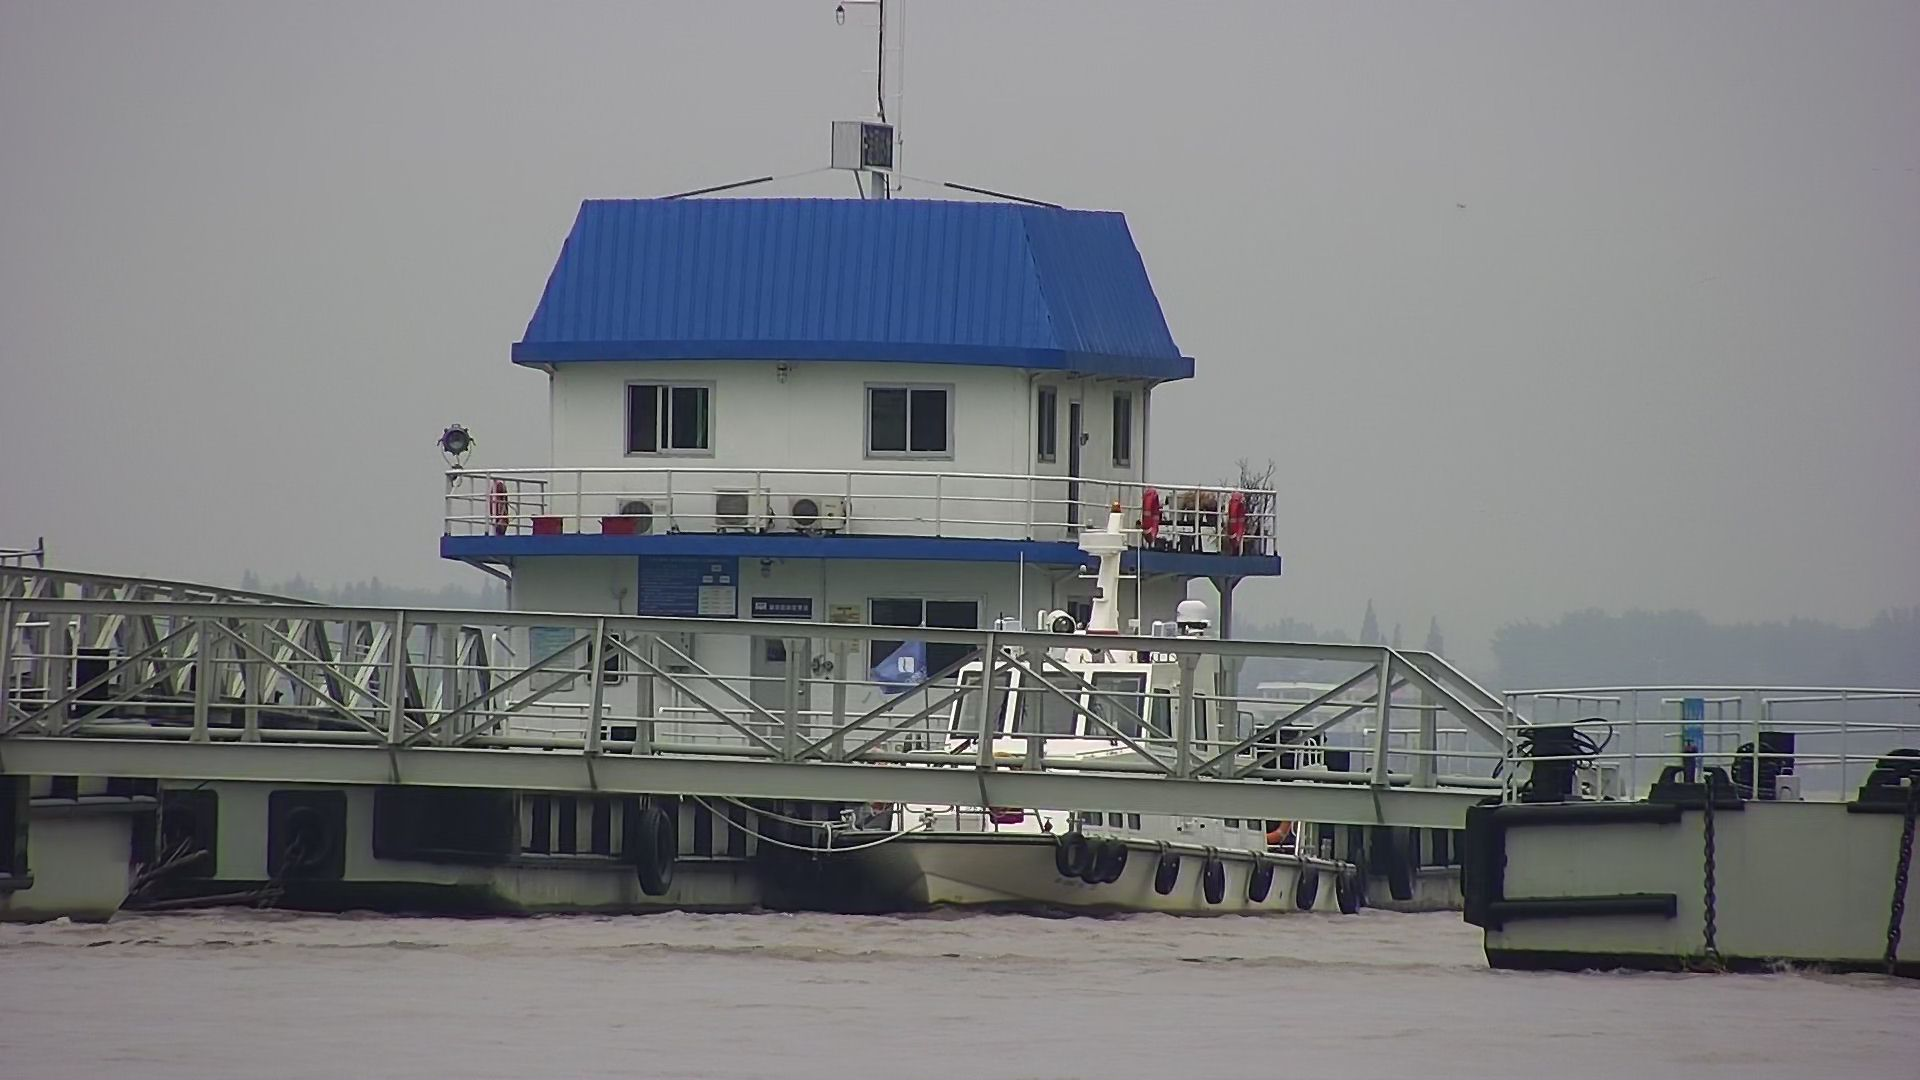bridge: (12, 579, 1526, 869)
platform: (1469, 650, 1920, 988)
ship: (1, 63, 1435, 963)
